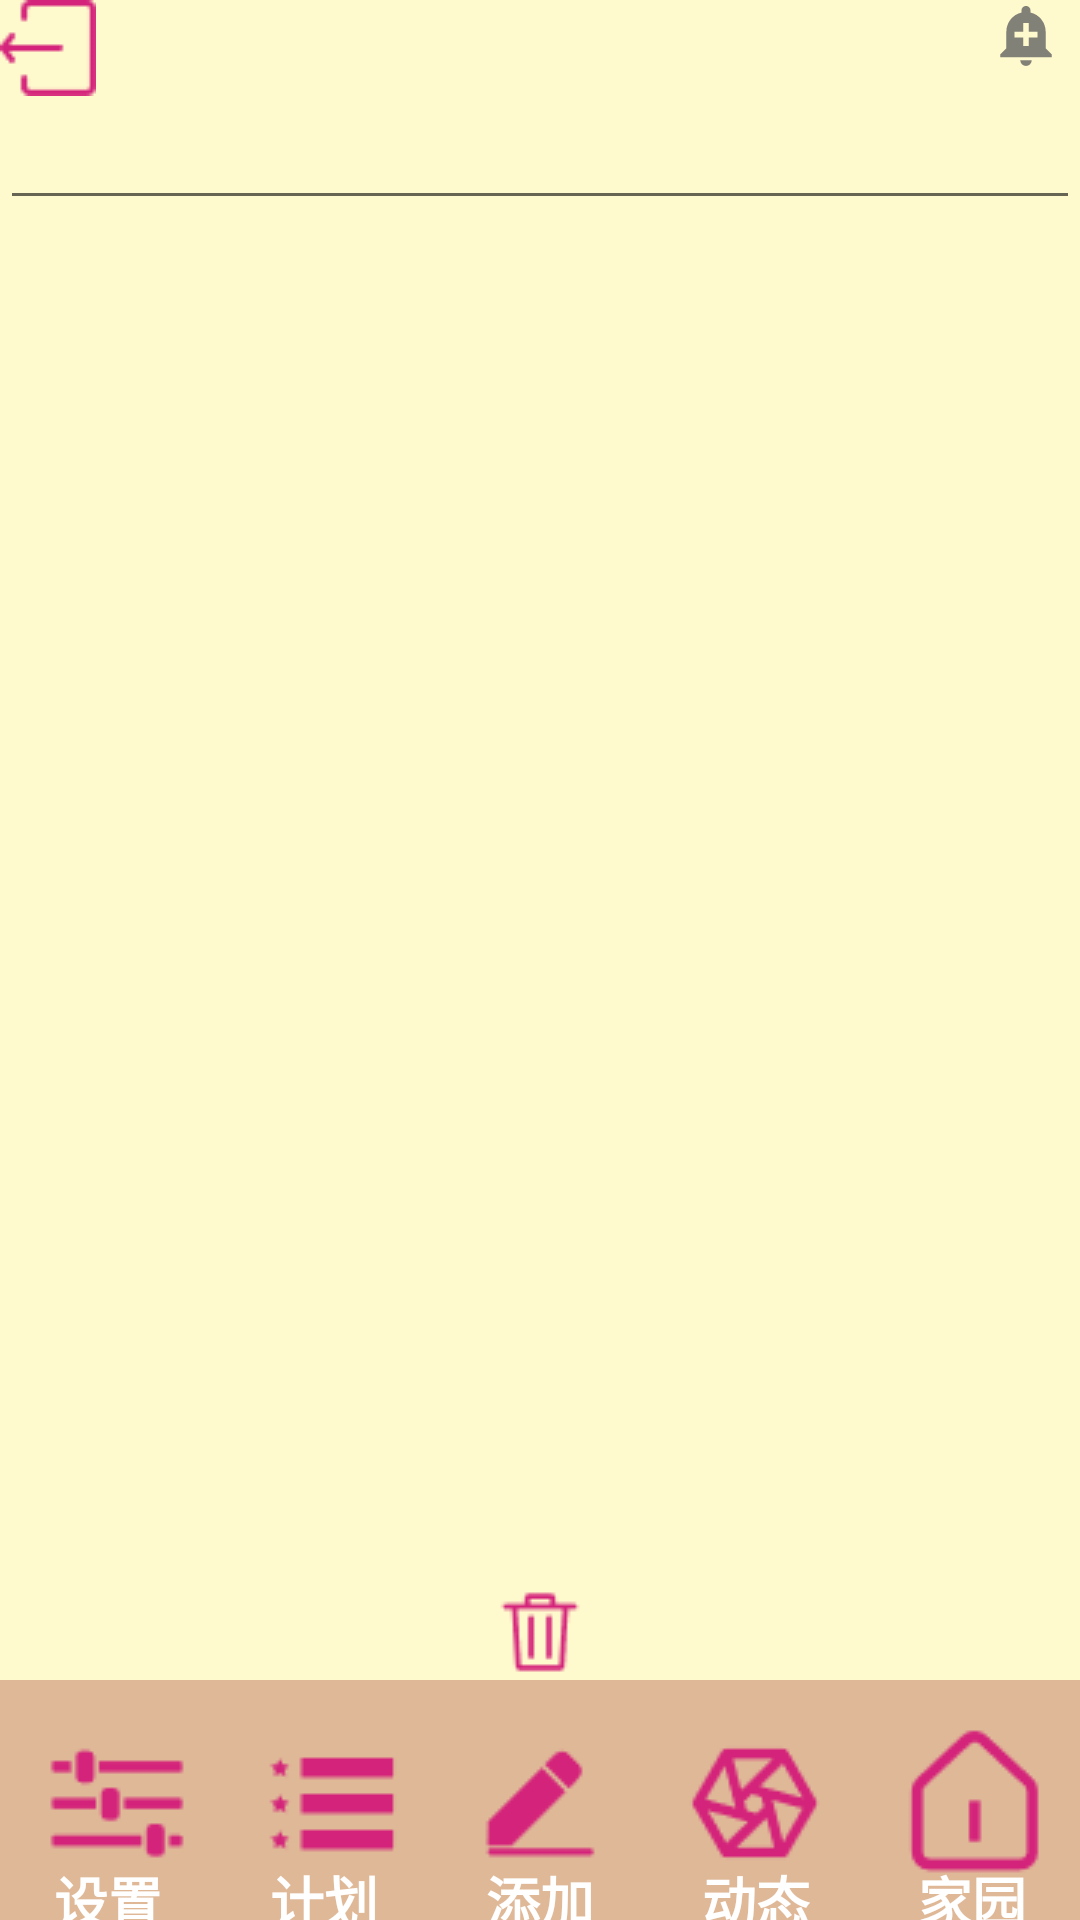

Screen size 1080w x 1920h. Icon name, then its center in pixels as [x,y]:
alarm: [1026,36]
delete: [540,1632]
exit: [48,48]
